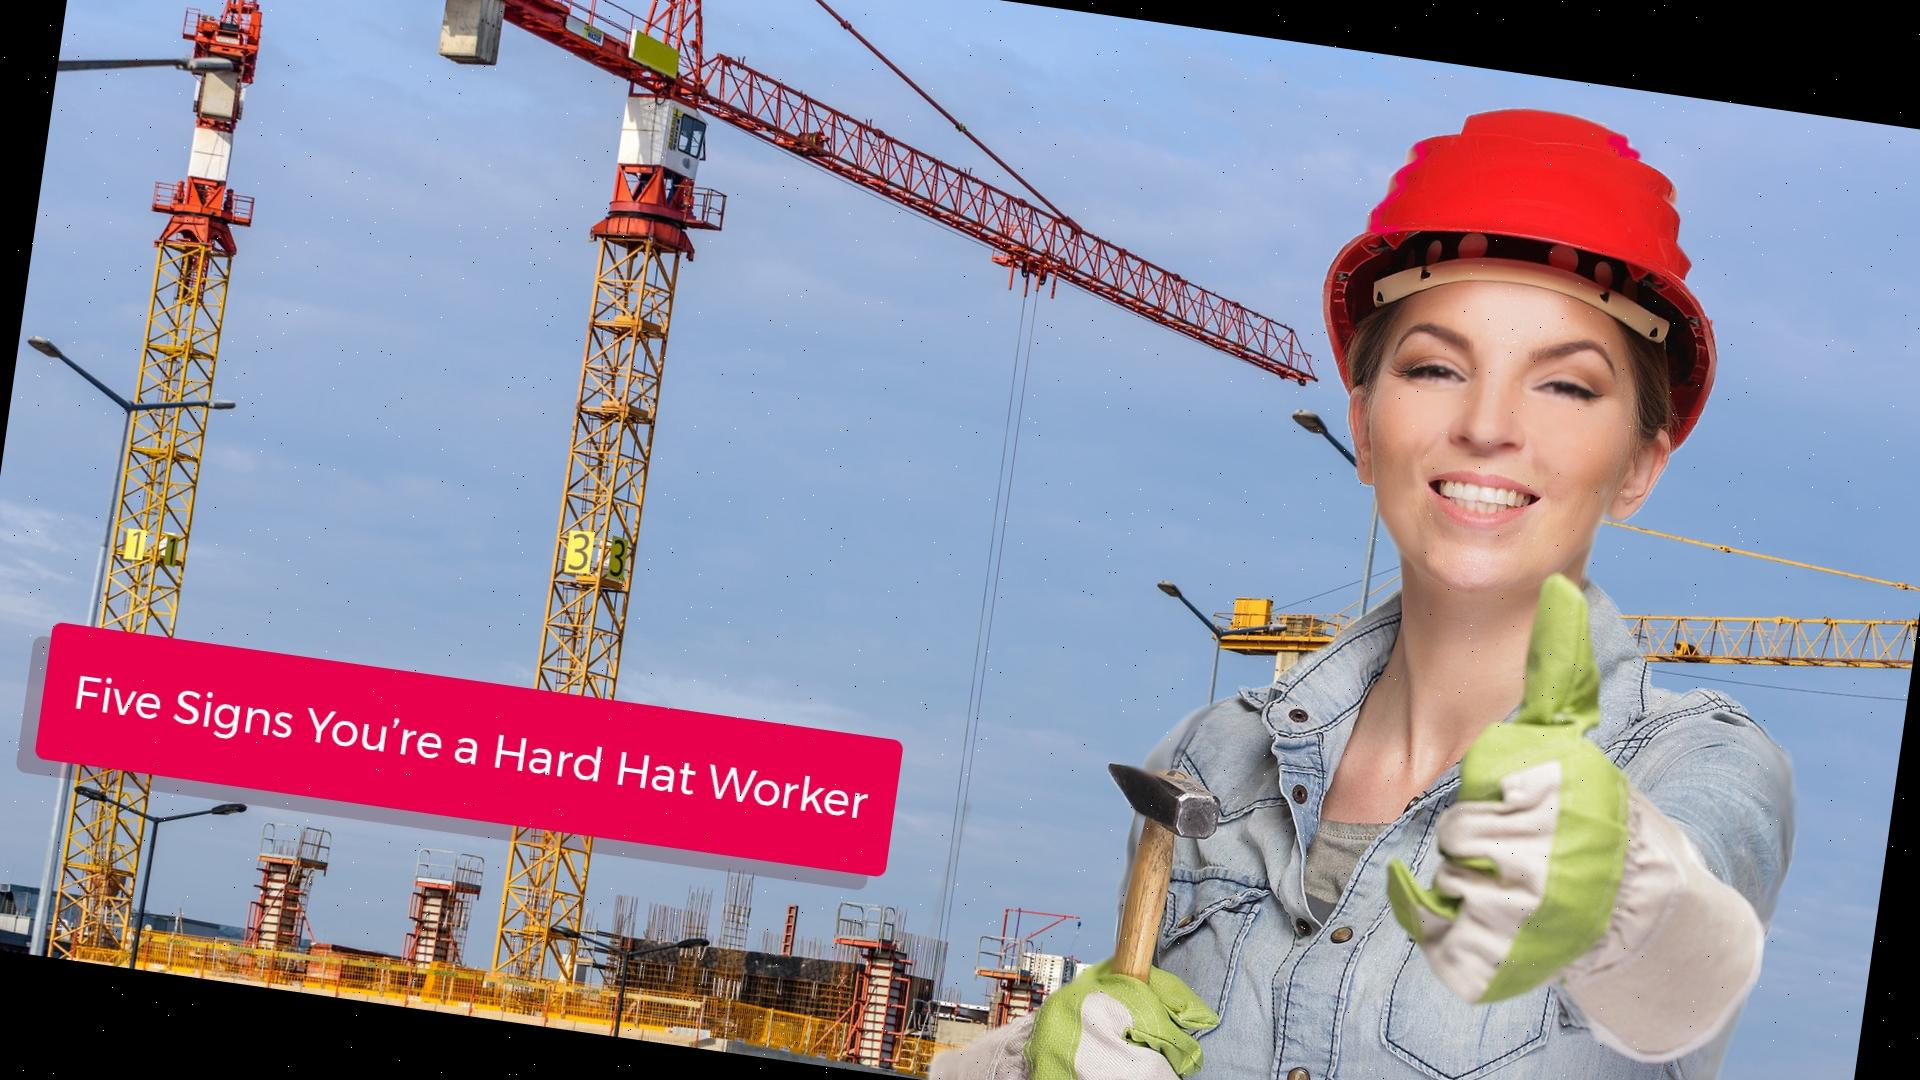helmet: (1300, 83, 1753, 455)
no_wear: (1073, 611, 1805, 1080)
